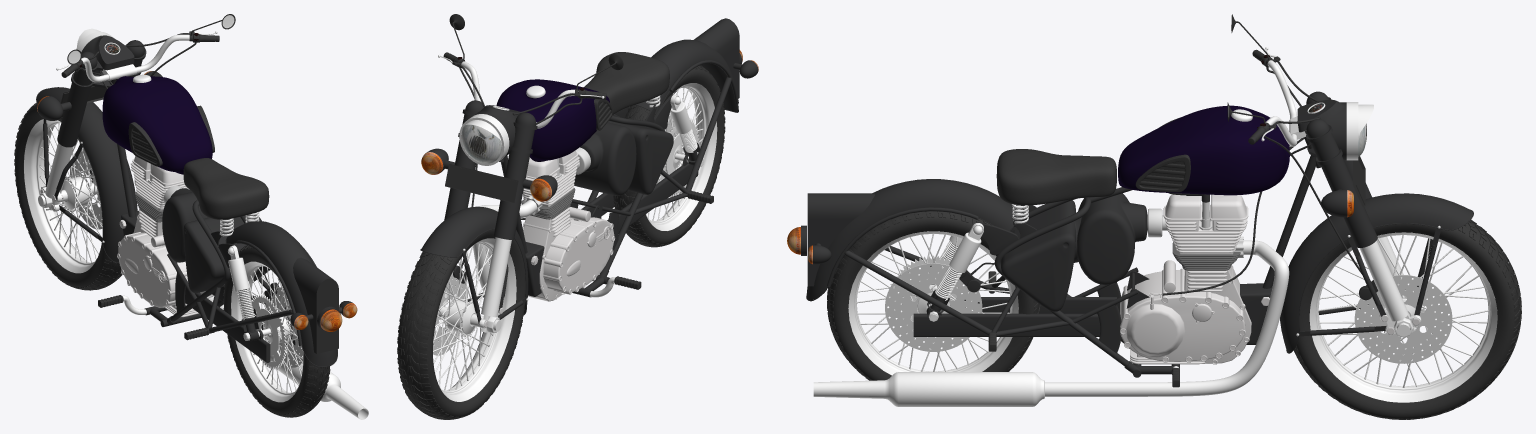
Rendered from Bullet RAJA MP09.glb.
3 views of the same model, side by side, from view 1: azimuth 30°, elevation 25°; view 2: azimuth 150°, elevation 25°; view 3: azimuth 270°, elevation 25° (orthographic). The views are drawn at different scales.
Parts seen in each view (by area): view 1: Cube, Circle.024, Cylinder.005, Cube.001, Circle.001, Plane.006, RIM, NurbsPath.001, Circle.015, Cylinder.002, Cube.037, NurbsPath.021 (+25 smaller); view 2: Plane.006, Cylinder.005, Cube, Circle.015, Cylinder.002, Cube.001, NurbsPath.001, NurbsPath.021, RIM, Circle.024, RIM.001, Circle.001 (+28 smaller); view 3: NurbsPath, Plane.006, Cube, Circle.015, NurbsPath.001, Cylinder.005, Cylinder.002, Circle.024, Circle.001, Cube.001, RIM, Plane.008 (+22 smaller).
Part boxes in pixels (x1,y1,x2,y2): Cube: [102, 76, 212, 174]; Circle.024: [36, 87, 137, 263]; Cylinder.005: [41, 34, 189, 211]; Cube.001: [183, 158, 269, 219]; Circle.001: [225, 221, 337, 367]; Plane.006: [14, 102, 121, 290]; RIM: [24, 119, 96, 273]; NurbsPath.001: [110, 79, 292, 333]; Circle.015: [118, 232, 212, 307]; Cylinder.002: [162, 188, 269, 292]; Cube.037: [293, 257, 338, 353]; NurbsPath.021: [39, 123, 102, 262]; Plane.006: [397, 229, 525, 419]; Cylinder.005: [438, 61, 578, 332]; Cube: [496, 79, 609, 161]; Circle.015: [522, 207, 614, 292]; Cylinder.002: [574, 121, 661, 195]; Cube.001: [583, 52, 669, 114]; NurbsPath.001: [499, 77, 731, 269]; NurbsPath.021: [433, 243, 493, 390]; RIM: [439, 238, 516, 401]; Circle.024: [420, 206, 528, 314]; RIM.001: [646, 83, 717, 230]; Circle.001: [635, 39, 738, 114]; NurbsPath: [813, 240, 1289, 406]; Plane.006: [1293, 219, 1521, 419]; Cube: [1118, 105, 1289, 195]; Circle.015: [1120, 260, 1245, 361]; NurbsPath.001: [844, 137, 1320, 366]; Cylinder.005: [1265, 60, 1421, 336]; Cylinder.002: [1001, 193, 1147, 285]; Circle.024: [1280, 193, 1473, 353]; Circle.001: [806, 179, 1020, 301]; Cube.001: [996, 149, 1116, 205]; RIM: [1309, 232, 1497, 402]; Plane.008: [1354, 275, 1452, 363].
Size of the model in its own units: 1.13 by 1.98 by 3.66.
Materials: 11 (3 with a texture image).
